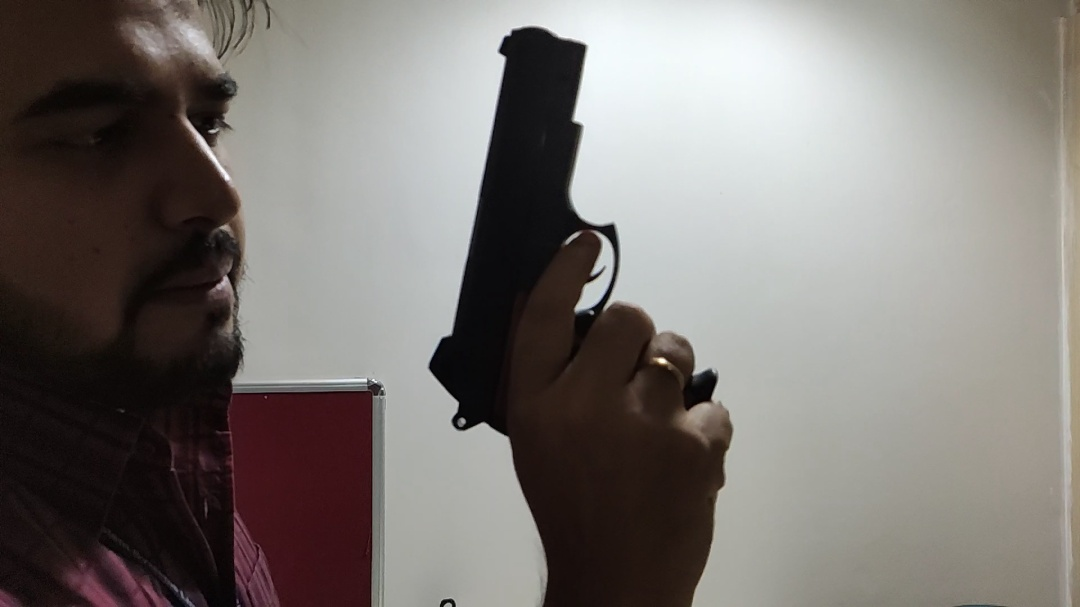gun: (523, 268, 547, 302)
